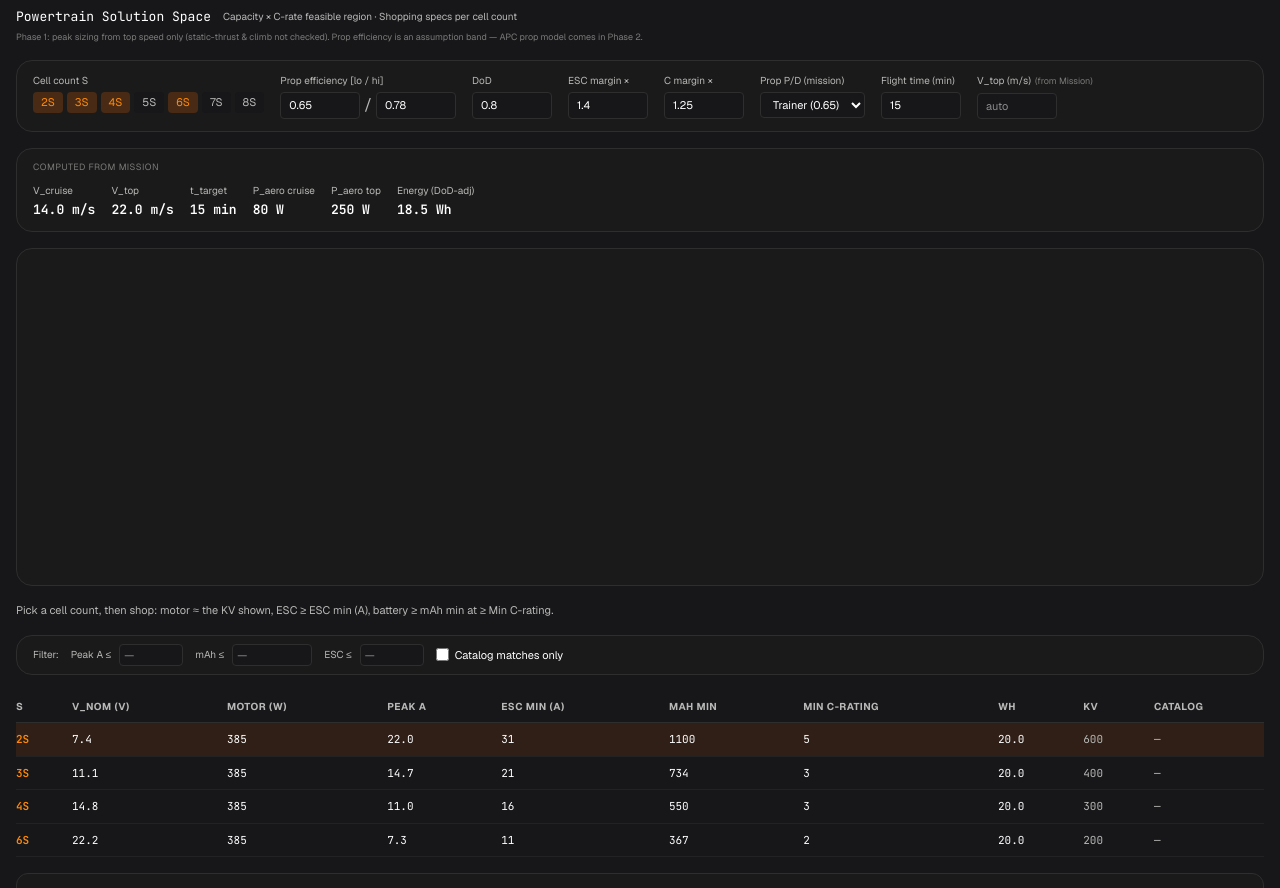
Test: PowertrainTab › clicking a row selects it and updates shopping spec
Click the 4S row
Click the row with test id "solution-row-4" at [640, 806], box [16,790,1264,823]
(page scrolled)
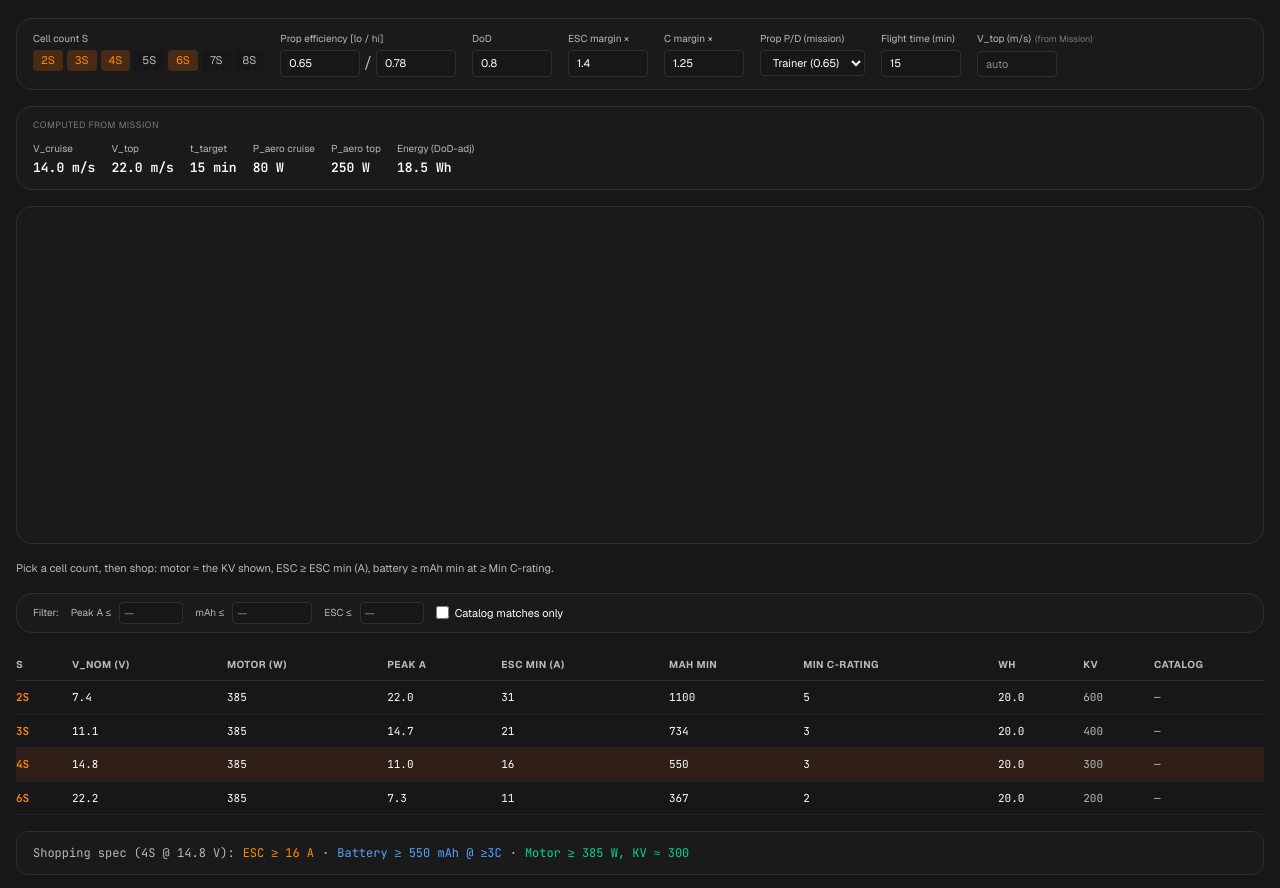
Check: the element with test id "shopping-spec-line" shows "4S", box [16,831,1264,875]
